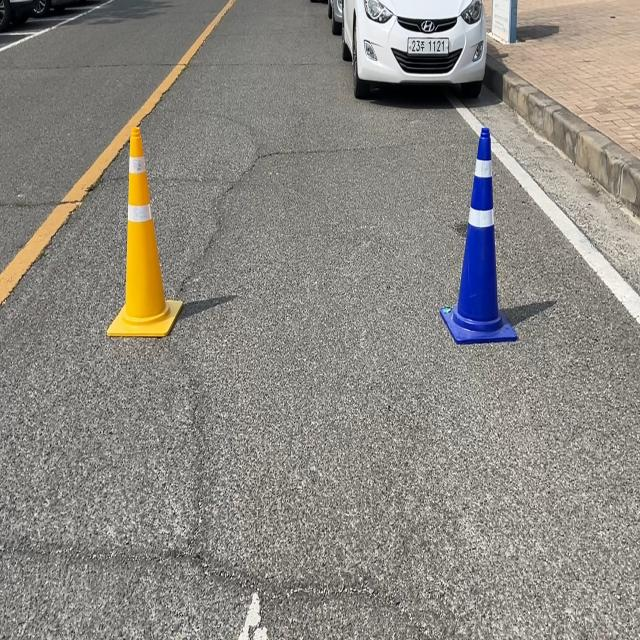b_rub: (441, 126, 518, 343)
y_rub: (107, 126, 182, 336)
